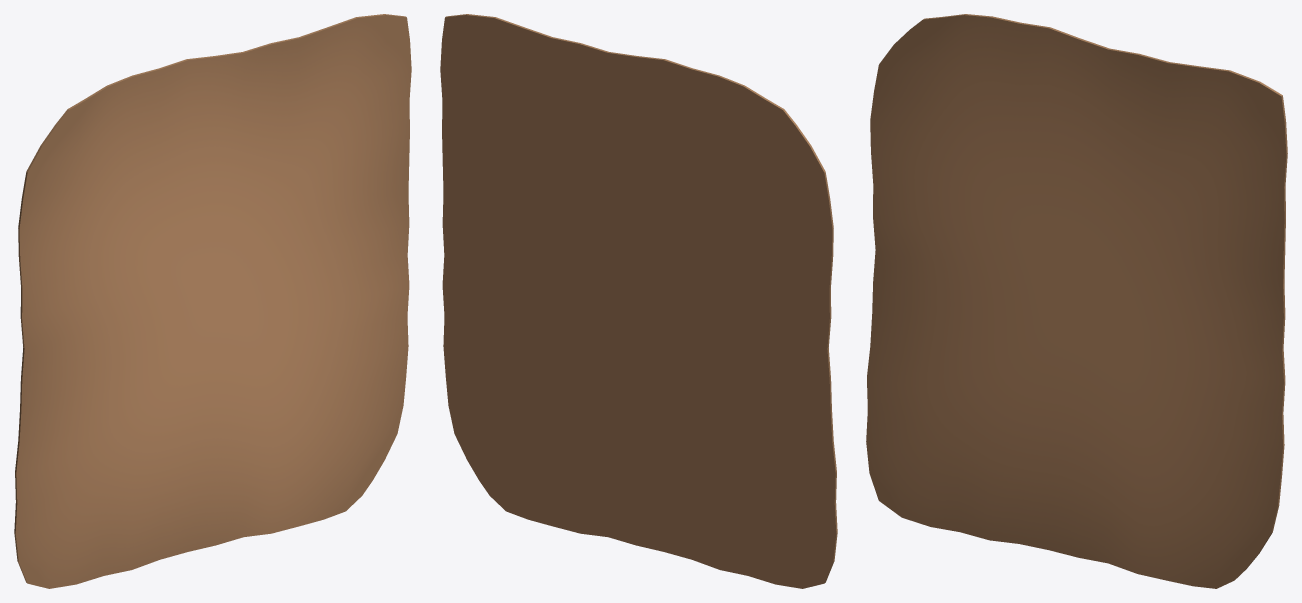
The model's file is poster.fbx.
3 renders of one model, left to right at view 1: azimuth 30°, elevation 25°; view 2: azimuth 150°, elevation 25°; view 3: azimuth 330°, elevation 25°, orthographic. The views are drawn at different scales.
Visible parts, largest first — view 1: WCC_LowPoly_Parchment; view 2: WCC_LowPoly_Parchment; view 3: WCC_LowPoly_Parchment.
Part boxes in pixels (x1,y1,x2,y2): WCC_LowPoly_Parchment: [14, 14, 411, 588]; WCC_LowPoly_Parchment: [440, 14, 837, 588]; WCC_LowPoly_Parchment: [866, 14, 1287, 588].
Bounding box in the file's own units: 166 × 199 × 1.
1 material, 1 textured.
